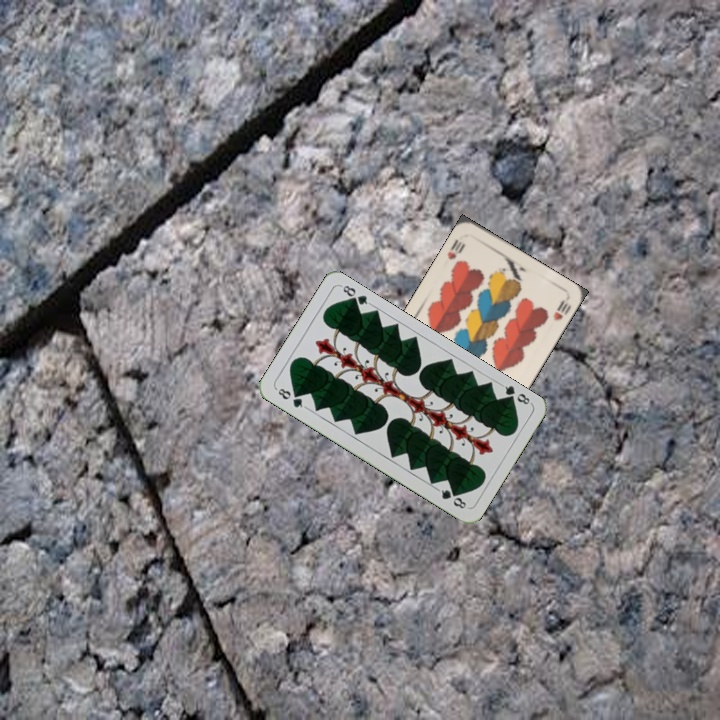G8: (497, 380, 534, 408), (272, 384, 309, 411)
H10: (443, 235, 468, 263)
